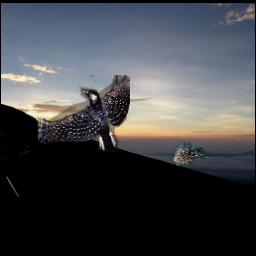Sparrow: (172, 142, 209, 166)
Woodpecker: (39, 75, 131, 152)
